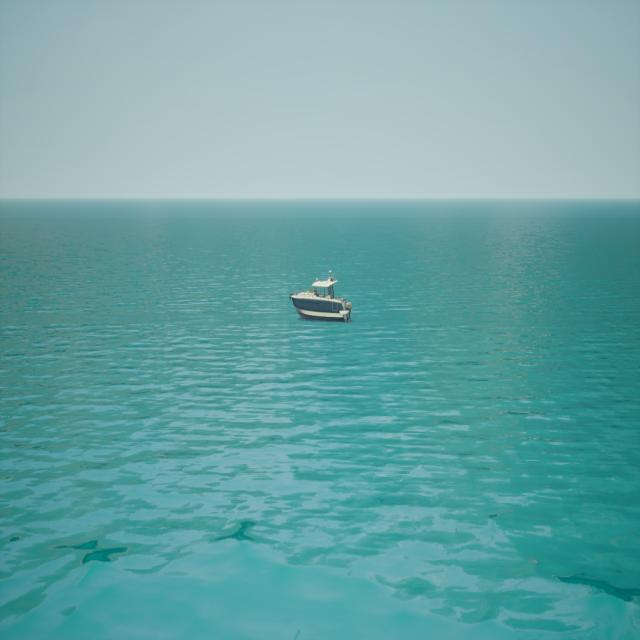ship: (289, 267, 353, 321)
